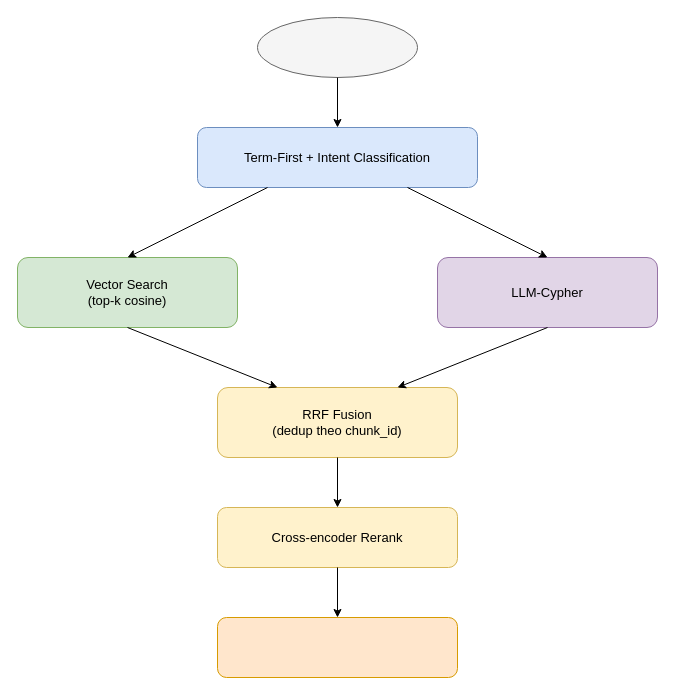
This 675x695 diagram has some shape labels left out. Here are the shapes that lost their labels. From the top down, the centre of each, then its label:
At (337,47): "Query".
At (337,647): "Ngữ cảnh đưa vào LLM".
